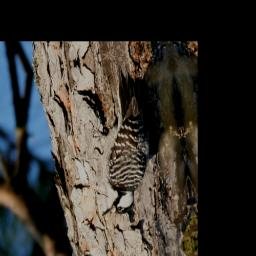Woodpecker: (81, 62, 159, 219)
